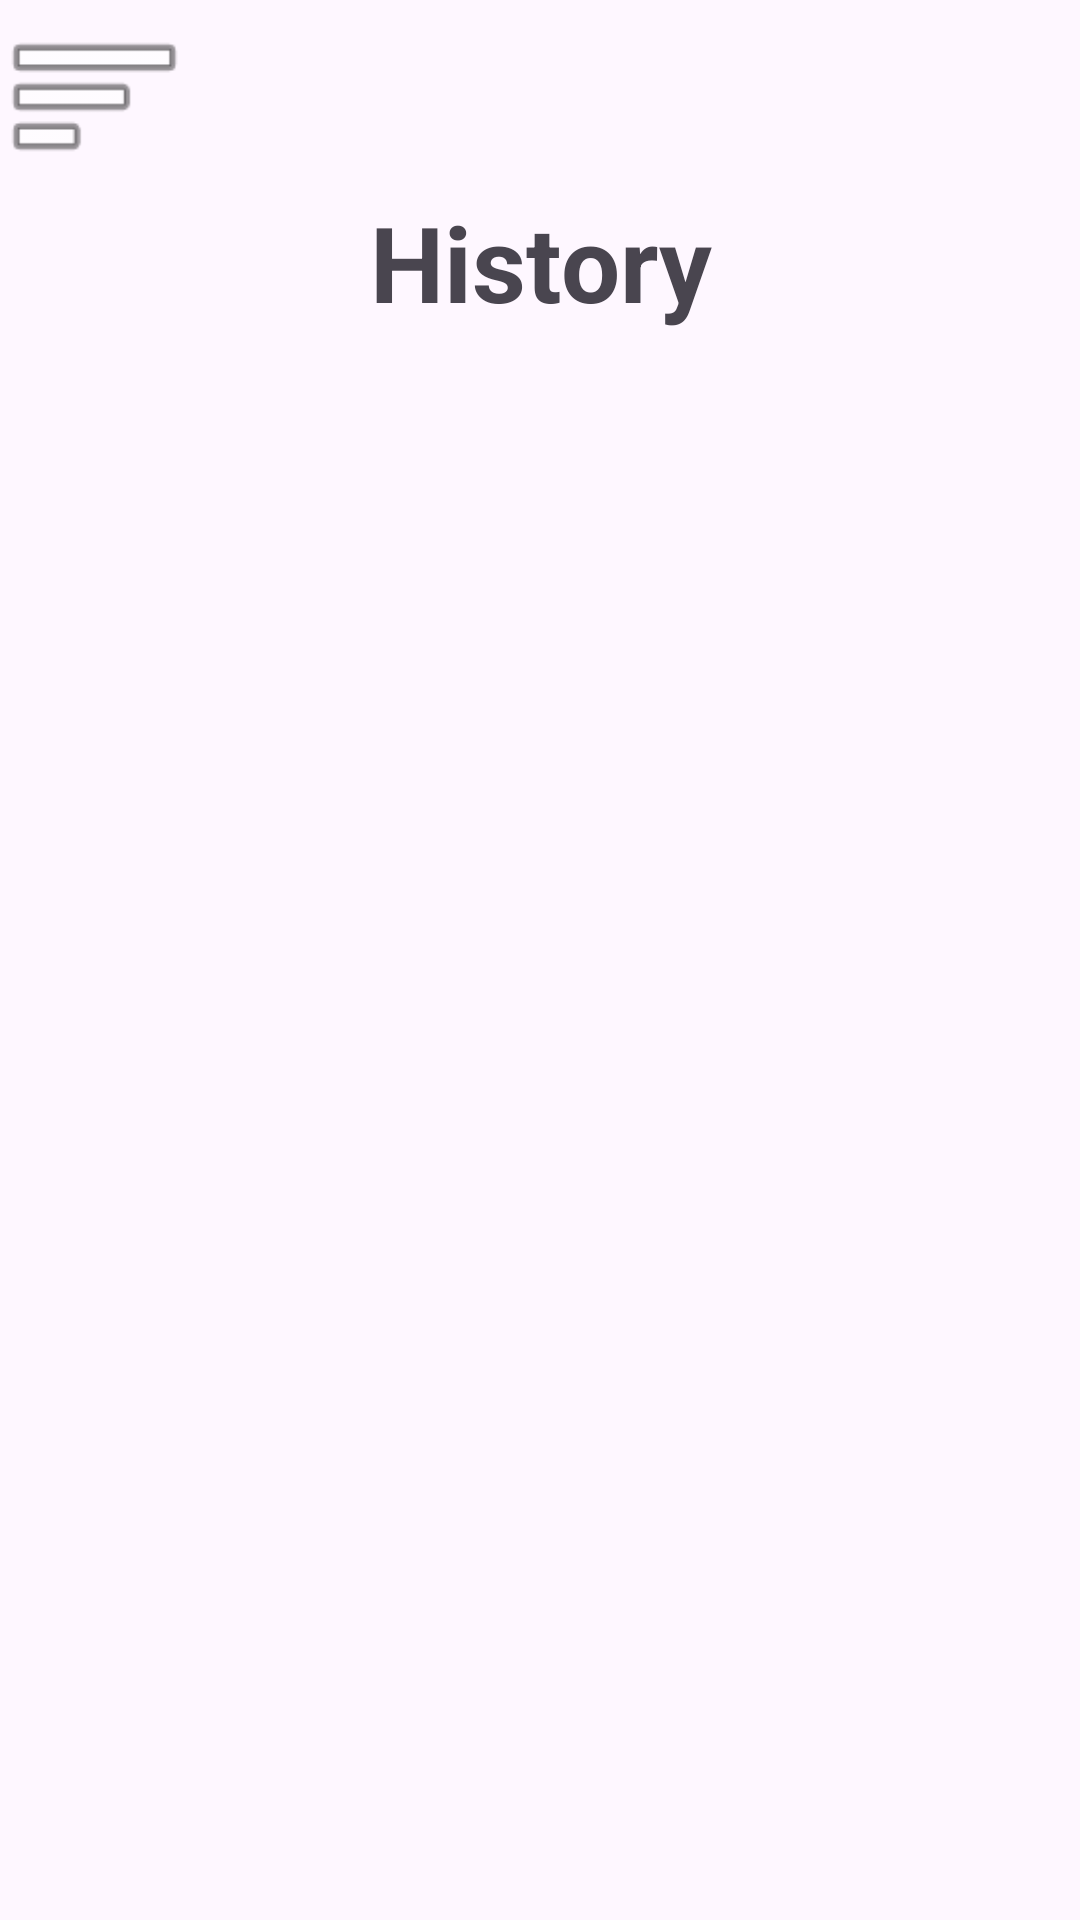

Named icons in this screenshot (1080x1920) and their bounding boxes, {"x1": x1, "y1": y1, "x2": x2, "y2": y2}:
List: {"x1": 13, "y1": 44, "x2": 176, "y2": 150}
